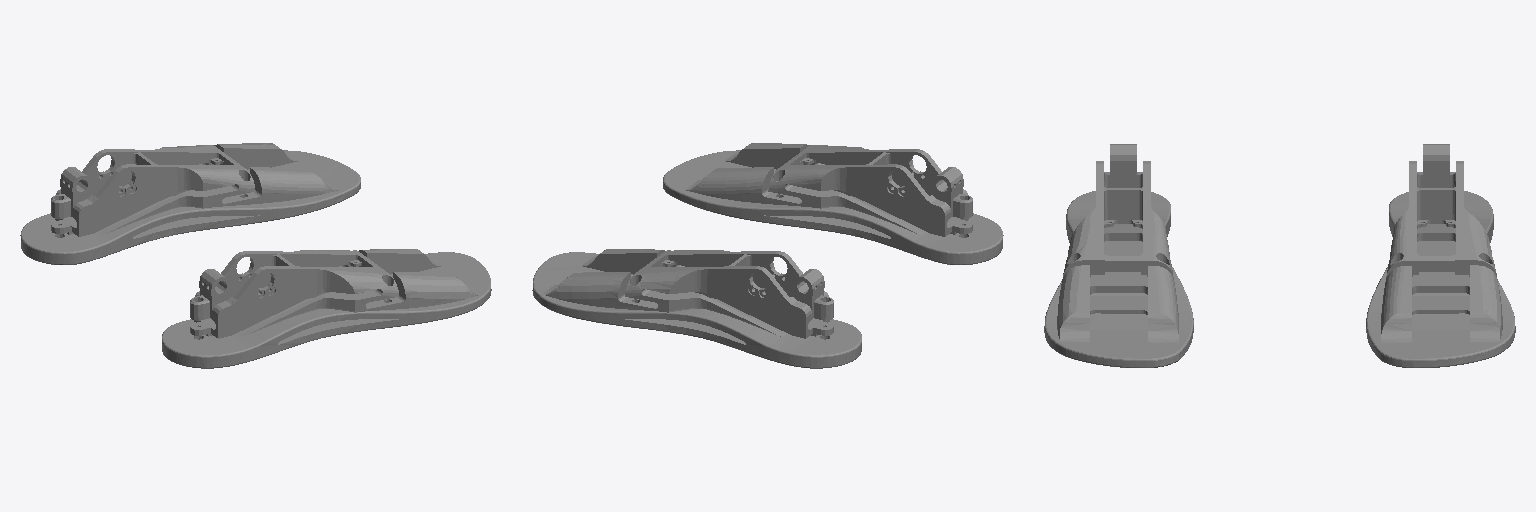
URDF robot description (fdrobot_t1):
<?xml version="1.0" encoding="utf-8"?>
<!-- This URDF was automatically created by SolidWorks to URDF Exporter! Originally created by [author] ([email redacted]) 
     Commit Version: 1.6.0-1-g15f4949  Build Version: 1.6.7594.29634
     For more information, please see http://wiki.ros.org/sw_urdf_exporter -->
<robot
  name="fdrobot_t1">
  <mujoco>
    <compiler meshdir="../meshes/" balanceinertia="true" discardvisual="false"/>
  </mujoco>
  <link name="base_link">
    <inertial>
      <origin xyz="-0.01792582 -0.00116544 0.16046544"/>
      <mass value="14.84000000"/>
      <inertia ixx="0.30956858" ixy="-0.00002990" ixz="-0.00293909" iyy="0.26039718" iyz="0.00121977" izz="0.10594006"/>
    </inertial>
    <visual>
      <origin
        xyz="0 0 0"
        rpy="0 0 0" />
      <geometry>
        <mesh
          filename="../meshes/base_link_half.STL" />
      </geometry>
      <material
        name="fd_T1">
        <color
          rgba="1.5 1.5 1.5 1" />
      </material>
    </visual>
    <collision>
      <origin
        xyz="0 0 0"
        rpy="0 0 0" />
      <geometry>
        <mesh
          filename="../meshes/base_link_half.STL" />
      </geometry>
    </collision>
  </link>
  
  <link name="R_hipY_Link">
    <inertial>
      <origin xyz="-0.00690057 -0.00103408 -0.03299255"/>
      <mass value="0.13500000"/>
      <inertia ixx="0.00010071" ixy="0.00000045" ixz="0.00000523" iyy="0.00017411" iyz="-0.00000567" izz="0.00014227"/>
    </inertial>

    <visual>
      <origin
        xyz="0 0 0"
        rpy="0 0 0" />
      <geometry>
        <mesh
          filename="../meshes/R_hipY_Link.STL" />
      </geometry>
      <material
        name="fd_T1">
        <color
          rgba="0.6 0.6 0.6 1" />
      </material>
    </visual>
    <!-- <collision>
      <origin
        xyz="0 0 0"
        rpy="0 0 0" />
      <geometry>
        <mesh
          filename="../meshes/R_hipY_Link.STL" />
      </geometry>
    </collision> -->
  </link>

  <link name="R_hipR_Link">
    <inertial>
      <origin xyz="0.00515634 -0.00001035 0.00001630"/>
      <mass value="2.13000000"/>
      <inertia ixx="0.00225394" ixy="-0.00000000" ixz="-0.00000000" iyy="0.00235874" iyz="-0.00000017" izz="0.00250818"/>
    </inertial>

    <visual>
      <origin
        xyz="0 0 0"
        rpy="0 0 0" />
      <geometry>
        <mesh
          filename="../meshes/R_hipR_Link.STL" />
      </geometry>
      <material
        name="fd_T1">
        <color
          rgba="0.3 0.3 0.3 1" />
      </material>
    </visual>
    <!-- <collision>
      <origin
        xyz="0 0 0"
        rpy="0 0 0" />
      <geometry>
        <mesh
          filename="../meshes/R_hipR_Link.STL" />
      </geometry>
    </collision> -->
  </link>

  <link name="R_hipP_Link">
    <inertial>
      <origin xyz="-0.05052791 -0.01278962 -0.19348864"/>
      <mass value="1.54000000"/>
      <inertia ixx="0.01782645" ixy="-0.00017759" ixz="-0.00279812" iyy="0.01806249" iyz="-0.00089974" izz="0.00265459"/>
    </inertial>
    <visual>
      <origin
        xyz="0 0 0"
        rpy="0 0 0" />
      <geometry>
        <mesh
          filename="../meshes/R_hipP_Link.STL" />
      </geometry>
      <material
        name="fd_T1">
        <color
          rgba="1.5 1.5 1.5 1" />
      </material>
    </visual>
    <!-- <collision>
      <origin
        xyz="0 0 0"
        rpy="0 0 0" />
      <geometry>
        <mesh
          filename="../meshes/R_hipP_Link.STL" />
      </geometry>
    </collision> -->
  </link>

  <link name="R_knee_Link">
    <inertial>
      <origin xyz="-0.00231537 -0.00881299 -0.14680117"/>
      <mass value="3.02000000"/>
      <inertia ixx="0.03021034" ixy="0.00003810" ixz="0.00189012" iyy="0.03061230" iyz="-0.00041596" izz="0.00277855"/>
    </inertial>
    <visual>
      <origin
        xyz="0 0 0"
        rpy="0 0 0" />
      <geometry>
        <mesh
          filename="../meshes/R_knee_Link.STL" />
      </geometry>
      <material
        name="fd_T1">
        <color
          rgba="1.5 1.5 1.5 1" />
      </material>
    </visual>
    <collision>
      <origin
        xyz="0 0 0"
        rpy="0 0 0" />
      <geometry>
        <mesh
          filename="../meshes/R_knee_Link.STL" />
      </geometry>
    </collision>
  </link>

  <link name="R_ankleY_Link">
    <inertial>
      <origin xyz="-0.00001146 0.00015459 -0.05493229"/>
      <mass value="0.11000000"/>
      <inertia ixx="0.00011813" ixy="-0.00000000" ixz="-0.00000000" iyy="0.00011929" iyz="-0.00000000" izz="0.00001839"/>
    </inertial>

    <visual>
      <origin
        xyz="0 0 0"
        rpy="0 0 0" />
      <geometry>
        <mesh
          filename="../meshes/R_ankleY_Link.STL" />
      </geometry>
      <material
        name="fd_T1">
        <color
          rgba="0.6 0.6 0.6 1" />
      </material>
    </visual>
    <!-- <collision>
      <origin
        xyz="0 0 0"
        rpy="0 0 0" />
      <geometry>
        <mesh
          filename="../meshes/R_ankleY_Link.STL" />
      </geometry>
    </collision> -->
  </link>

  <link name="R_ankleR_Link">
    <inertial>
      <origin xyz="-0.00000060 -0.00000665 0.00000251"/>
      <mass value="0.03200000"/>
      <inertia ixx="0.00000171" ixy="0.00000000" ixz="0.00000000" iyy="0.00000171" iyz="-0.00000000" izz="0.00000272"/>
    </inertial>

    <visual>
      <origin
        xyz="0 0 0"
        rpy="0 0 0" />
      <geometry>
        <mesh
          filename="../meshes/R_ankleR_Link.STL" />
      </geometry>
      <material
        name="fd_T1">
        <color
          rgba="0.6 0.6 0.6 1" />
      </material>
    </visual>
    <!-- <collision>
      <origin
        xyz="0 0 0"
        rpy="0 0 0" />
      <geometry>
        <mesh
          filename="../meshes/R_ankleR_Link.STL" />
      </geometry>
    </collision> -->
  </link>

  <link name="R_ankleP_Link">
    <inertial>
      <origin xyz="0.03288696 -0.00059932 -0.02627222"/>
      <mass value="0.38000000"/>
      <inertia ixx="0.00011977" ixy="0.00001031" ixz="0.00003164" iyy="0.00076073" iyz="-0.00000246" izz="0.00078746"/>
    </inertial>

    <visual>
      <origin
        xyz="0 0 0"
        rpy="0 0 0" />
      <geometry>
        <mesh
          filename="../meshes/R_ankleP_Link.STL" />
      </geometry>
      <material
        name="fd_T1">
        <color
          rgba="0.6 0.6 0.6 1" />
      </material>
    </visual>
    <collision>
      <origin
        xyz="0 0 0"
        rpy="0 0 0" />
      <geometry>
        <mesh
          filename="../meshes/R_ankleP_Link.obj" />
      </geometry>
    </collision>
  </link>

  <link name="L_hipY_Link">
    <inertial>
      <origin xyz="-0.00846725 0.00122011 -0.03373783"/>
      <mass value="0.13500000"/>
      <inertia ixx="0.00010071" ixy="-0.00000045" ixz="0.00000523" iyy="0.00017411" iyz="0.00000567" izz="0.00014227"/>
    </inertial>

    <visual>
      <origin
        xyz="0 0 0"
        rpy="0 0 0" />
      <geometry>
        <mesh
          filename="../meshes/L_hipY_Link.STL" />
      </geometry>
      <material
        name="fd_T1">
        <color
          rgba="0.6 0.6 0.6 1" />
      </material>
    </visual>
    <!-- <collision>
      <origin
        xyz="0 0 0"
        rpy="0 0 0" />
      <geometry>
        <mesh
          filename="../meshes/L_hipY_Link.STL" />
      </geometry>
    </collision> -->
  </link>

  <link name="L_hipR_Link">
    <inertial>
      <origin xyz="0.00520149 -0.00000041 0.00001630"/>
      <mass value="2.13000000"/>
      <inertia ixx="0.00225394" ixy="-0.00000000" ixz="-0.00000000" iyy="0.00235874" iyz="-0.00000017" izz="0.00250818"/>
    </inertial>

    <visual>
      <origin
        xyz="0 0 0"
        rpy="0 0 0" />
      <geometry>
        <mesh
          filename="../meshes/L_hipR_Link.STL" />
      </geometry>
      <material
        name="fd_T1">
        <color
          rgba="0.3 0.3 0.3 1" />
      </material>
    </visual>
    <!-- <collision>
      <origin
        xyz="0 0 0"
        rpy="0 0 0" />
      <geometry>
        <mesh
          filename="../meshes/L_hipR_Link.STL" />
      </geometry>
    </collision> -->
  </link>

  <link name="L_hipP_Link">
    <inertial>
      <origin xyz="-0.05056609 0.01269854 -0.19392144"/>
      <mass value="1.54000000"/>
      <inertia ixx="0.01782584" ixy="0.00017752" ixz="-0.00279787" iyy="0.01806181" iyz="0.00089958" izz="0.00265445"/>
    </inertial>

    <visual>
      <origin
        xyz="0 0 0"
        rpy="0 0 0" />
      <geometry>
        <mesh
          filename="../meshes/L_hipP_Link.STL" />
      </geometry>
      <material
        name="fd_T1">
        <color
          rgba="1.5 1.5 1.5 1" />
      </material>
    </visual>
    <!-- <collision>
      <origin
        xyz="0 0 0"
        rpy="0 0 0" />
      <geometry>
        <mesh
          filename="../meshes/L_hipP_Link.STL" />
      </geometry>
    </collision> -->
  </link>

  <link name="L_knee_Link">
    <inertial>
      <origin xyz="-0.00233767 0.00884361 -0.14666966"/>
      <mass value="3.02000000"/>
      <inertia ixx="0.03021031" ixy="-0.00003810" ixz="0.00189012" iyy="0.03061227" iyz="0.00041593" izz="0.00277855"/>
    </inertial>

    <visual>
      <origin
        xyz="0 0 0"
        rpy="0 0 0" />
      <geometry>
        <mesh
          filename="../meshes/L_knee_Link.STL" />
      </geometry>
      <material
        name="fd_T1">
        <color
          rgba="1.5 1.5 1.5 1" />
      </material>
    </visual>
    <collision>
      <origin
        xyz="0 0 0"
        rpy="0 0 0" />
      <geometry>
        <mesh
          filename="../meshes/L_knee_Link.STL" />
      </geometry>
    </collision>
  </link>

  <link name="L_ankleY_Link">
    <inertial>
      <origin xyz="-0.00001144 -0.00010759 -0.05482039"/>
      <mass value="0.11000000"/>
      <inertia ixx="0.00011813" ixy="0.00000000" ixz="-0.00000000" iyy="0.00011929" iyz="0.00000000" izz="0.00001839"/>
    </inertial>

    <visual>
      <origin
        xyz="0 0 0"
        rpy="0 0 0" />
      <geometry>
        <mesh
          filename="../meshes/L_ankleY_Link.STL" />
      </geometry>
      <material
        name="fd_T1">
        <color
          rgba="0.6 0.6 0.6 1" />
      </material>
    </visual>
    <!-- <collision>
      <origin
        xyz="0 0 0"
        rpy="0 0 0" />
      <geometry>
        <mesh
          filename="../meshes/L_ankleY_Link.STL" />
      </geometry>
    </collision> -->
  </link>

  <link name="L_ankleR_Link">
    <inertial>
      <origin xyz="-0.00000060 0.00000342 0.00000251"/>
      <mass value="0.03200000"/>
      <inertia ixx="0.00000171" ixy="-0.00000000" ixz="0.00000000" iyy="0.00000171" iyz="0.00000000" izz="0.00000272"/>
    </inertial>

    <visual>
      <origin
        xyz="0 0 0"
        rpy="0 0 0" />
      <geometry>
        <mesh
          filename="../meshes/L_ankleR_Link.STL" />
      </geometry>
      <material
        name="fd_T1">
        <color
          rgba="0.6 0.6 0.6 1" />
      </material>
    </visual>
    <!-- <collision>
      <origin
        xyz="0 0 0"
        rpy="0 0 0" />
      <geometry>
        <mesh
          filename="../meshes/L_ankleR_Link.STL" />
      </geometry>
    </collision> -->
  </link>

  <link name="L_ankleP_Link">
    <inertial>
      <origin xyz="0.03370680 0.00066451 -0.02538851"/>
      <mass value="0.38000000"/>
      <inertia ixx="0.00011857" ixy="-0.00001037" ixz="0.00001408" iyy="0.00076073" iyz="0.00000219" izz="0.00078866"/>
    </inertial>

    <visual>
      <origin
        xyz="0 0 0"
        rpy="0 0 0" />
      <geometry>
        <mesh
          filename="../meshes/L_ankleP_Link.STL" />
      </geometry>
      <material
        name="fd_T1">
        <color
          rgba="0.6 0.6 0.6 1" />
      </material>
    </visual>
    <collision>
      <origin
        xyz="0 0 0"
        rpy="0 0 0" />
      <geometry>
        <mesh
          filename="../meshes/L_ankleP_Link.obj" />
      </geometry>
    </collision>
  </link>

  <!-- joint -->
  <joint name="leg_right_hipy" type="revolute">
    <origin
      xyz="0.01584881 -0.087 -0.0106761"
      rpy="0 0 -0.0135049416451496" />
    <parent
      link="base_link" />
    <child
      link="R_hipY_Link" />
    <axis
      xyz="0 0 -1" />
    <limit lower="-0.5" upper="0.5" effort="90" velocity="5" />
    <dynamics damping="0." friction="0." />
  </joint>

  <joint name="leg_right_hipr"
    type="revolute">
    <origin
      xyz="0.00048975139172347 -0.00600000000000003 -0.0630000000000002"
      rpy="0.073848446215598 0 0" />
    <parent
      link="R_hipY_Link" />
    <child
      link="R_hipR_Link" />
    <axis
      xyz="-1 0 0" />
    <limit lower="-0.2" upper="0.5" effort="150" velocity="5" />
    <dynamics damping="0." friction="0." />  
  </joint>

  <joint name="leg_right_hipp"
    type="revolute">
    <origin
      xyz="0.000750248608276216 -0.000605000000000001 0"
      rpy="0 -0.221180468392862 0" />
    <parent
      link="R_hipR_Link" />
    <child
      link="R_hipP_Link" />
    <axis
      xyz="0 -1 0" />
    <limit lower="-0.3" upper="1.0" effort="200" velocity="5" />
    <dynamics damping="0." friction="0." />
  </joint>

  <joint name="leg_right_knee"
    type="revolute">
    <origin
      xyz="-0.0830043203827464 -0.0150331253243573 -0.349140701138534"
      rpy="-0.0602241343835302 0.401634851584503 0.00375354549252053" />
    <parent
      link="R_hipP_Link" />
    <child
      link="R_knee_Link" />
    <axis
      xyz="0 1 0" />
    <limit lower="-0.0" upper="1.5" effort="250" velocity="5" />
    <dynamics damping="0." friction="0." />
  </joint>

  
  <joint name="leg_right_ankley"
    type="fixed">
    <origin
      xyz="0.0157752516698513 -0.00449999999999065 -0.318442600848389"
      rpy="0 -0.0227375486957188 -3.16972512642549E-05" />
    <parent
      link="R_knee_Link" />
    <child
      link="R_ankleY_Link" />
    <axis
      xyz="0 0 -1" />
    <limit lower="-3.14" upper="3.14" effort="148" velocity="5" />
    <dynamics damping="0." friction="0." />
  </joint>

  
  <joint name="leg_right_ankler"
    type="revolute">
    <origin
      xyz="0.00100000000000033 0 -0.109"
      rpy="0.0141734724213509 0 0" />
    <parent
      link="R_ankleY_Link" />
    <child
      link="R_ankleR_Link" />
    <axis
      xyz="-1 0 0" />
    <limit lower="-0.2" upper="0.2" effort="40" velocity="5" />
    <dynamics damping="0." friction="0.1" />
  </joint>

  <joint name="leg_right_anklep"
    type="revolute">
    <origin
      xyz="0 0 0"
      rpy="-0.03 -0.165 0" />
    <parent
      link="R_ankleR_Link" />
    <child
      link="R_ankleP_Link" />
    <axis
      xyz="0 -1 0" />
    <limit lower="-0.25" upper="0.5" effort="80" velocity="5" />
    <dynamics damping="0." friction="0.1" />
  </joint>

  <joint name="leg_left_hipy"
    type="revolute">
    <origin
      xyz="0.01584881 0.087 -0.0106761"
      rpy="0 0 0.0135049416451357" />
    <parent
      link="base_link" />
    <child
      link="L_hipY_Link" />
    <axis
      xyz="0 0 1" />
    <limit lower="-0.5" upper="0.5" effort="90" velocity="5" />
    <dynamics damping="0." friction="0." />
  </joint>

  <joint name="leg_left_hipr"
    type="revolute">
    <origin
      xyz="0.000489751391723026 0.00600000000000001 -0.063"
      rpy="-0.073848446215598 0 0" />
    <parent
      link="L_hipY_Link" />
    <child
      link="L_hipR_Link" />
    <axis
      xyz="1 0 0" />
    <limit lower="-0.2" upper="0.5" effort="150" velocity="5" />
    <dynamics damping="0." friction="0." />
  </joint>

  <joint name="leg_left_hipp"
    type="revolute">
    <origin
      xyz="0.000750248608277104 0.000605000000000022 0"
      rpy="0 -0.221180468392862 0" />
    <parent
      link="L_hipR_Link" />
    <child
      link="L_hipP_Link" />
    <axis
      xyz="0 -1 0" />
    <limit lower="-0.3" upper="1.0" effort="200" velocity="5" />
    <dynamics damping="0." friction="0." />
  </joint>
  
  <joint name="leg_left_knee"
    type="revolute">
    <origin
      xyz="-0.0830043203827473 0.0150331253243573 -0.349140701138534"
      rpy="0.0602241343835302 0.401634851584503 -0.00375354549252036" />
    <parent
      link="L_hipP_Link" />
    <child
      link="L_knee_Link" />
    <axis
      xyz="0 1 0" />
    <limit lower="-0.0" upper="1.5" effort="250" velocity="5" />
    <dynamics damping="0." friction="0." />
  </joint>

  <joint name="leg_left_ankley"
    type="fixed">
    <origin
      xyz="0.0157752516698508 0.00449999999999064 -0.318442600848389"
      rpy="0 -0.0227375486957189 3.16972512642358E-05" />
    <parent
      link="L_knee_Link" />
    <child
      link="L_ankleY_Link" />
    <axis
      xyz="0 0 1" />
    <limit lower="-3.14" upper="3.14" effort="100" velocity="5" />
    <dynamics damping="0." friction="0." />
  </joint>

  <joint name="leg_left_ankler"
    type="revolute">
    <origin
      xyz="0.00099999999999989 0 -0.109"
      rpy="-0.0141734724213464 0 0" />
    <parent
      link="L_ankleY_Link" />
    <child
      link="L_ankleR_Link" />
    <axis
      xyz="1 0 0" />
    <limit lower="-0.2" upper="0.2" effort="40" velocity="5" />
    <dynamics damping="0." friction="0.1" />
  </joint>

  <joint name="leg_left_anklep"
    type="revolute">
    <origin
      xyz="0 0 0"
      rpy="0.03 -0.165 0" />
    <parent
      link="L_ankleR_Link" />
    <child
      link="L_ankleP_Link" />
    <axis
      xyz="0 -1 0" />
    <limit lower="-0.25" upper="0.5" effort="80" velocity="5" />
    <dynamics damping="0." friction="0.1" />
  </joint>
</robot>

--- Facts derived from the render (not from the file) ---
3 views of the same robot in one strip: view 1: azimuth 30°, elevation 25°; view 2: azimuth 150°, elevation 25°; view 3: azimuth 270°, elevation 25° (orthographic).
Model fdrobot_t1 with 15 links and 14 joints (12 revolute, 2 fixed), rooted at base_link, posed all joints at 0.
Links seen in each view (by area): view 1: R_ankleP_Link, L_ankleP_Link; view 2: L_ankleP_Link, R_ankleP_Link; view 3: R_ankleP_Link, L_ankleP_Link.
Boxes of the visible links, x1,y1,x2,y2 form: R_ankleP_Link: [162, 249, 491, 368]; L_ankleP_Link: [20, 143, 360, 264]; L_ankleP_Link: [532, 249, 861, 368]; R_ankleP_Link: [663, 143, 1003, 264]; R_ankleP_Link: [1044, 144, 1193, 367]; L_ankleP_Link: [1366, 144, 1515, 367].
Size in the robot's own frame: 0.2144 by 0.2433 by 0.0497 metres.
2 mesh visuals loaded from 15 distinct referenced files (2 binary STL); not drawn: 13 (reference not matched to a file when rendering).